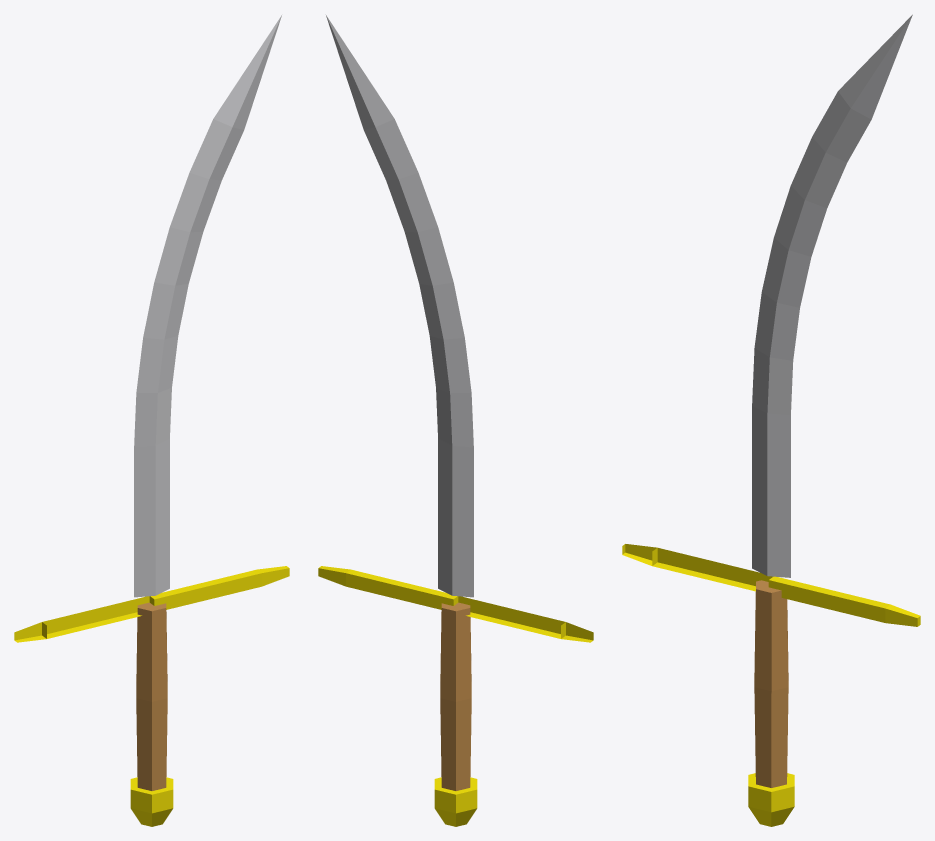
The model's file is greatsword.glb.
3 views of the same model, side by side, from view 1: azimuth 30°, elevation 25°; view 2: azimuth 150°, elevation 25°; view 3: azimuth 330°, elevation 25° (orthographic). The views are drawn at different scales.
Parts seen in each view (by area): view 1: blade, grip, crossguard, pommel; view 2: blade, grip, crossguard, pommel; view 3: blade, grip, crossguard, pommel.
Boxes of the visible parts, <box> form: blade: <box>134,15,281,597</box>; grip: <box>136,602,167,790</box>; crossguard: <box>14,566,289,642</box>; pommel: <box>130,777,173,826</box>; blade: <box>326,15,473,597</box>; grip: <box>440,602,471,790</box>; crossguard: <box>318,566,593,642</box>; pommel: <box>434,777,477,826</box>; blade: <box>752,14,912,577</box>; grip: <box>754,580,788,787</box>; crossguard: <box>622,544,920,626</box>; pommel: <box>748,773,794,826</box>.
Size of the model in its own units: 3.8 by 10.35 by 0.5196.
